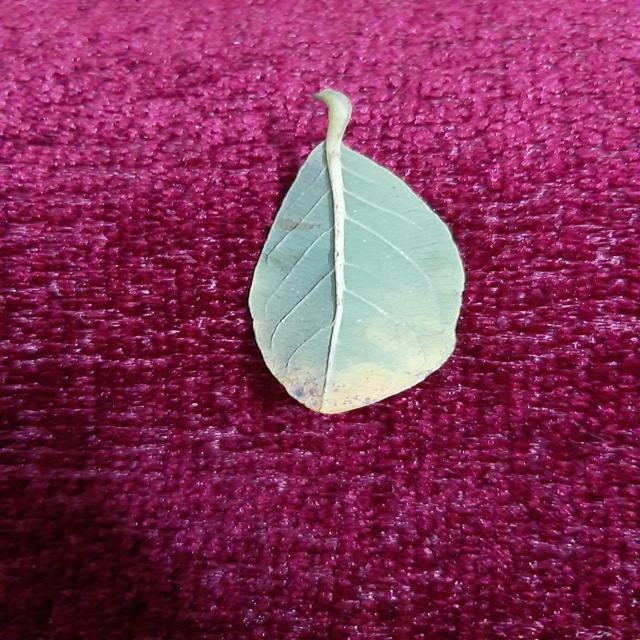seethaphala: (249, 90, 463, 414)
